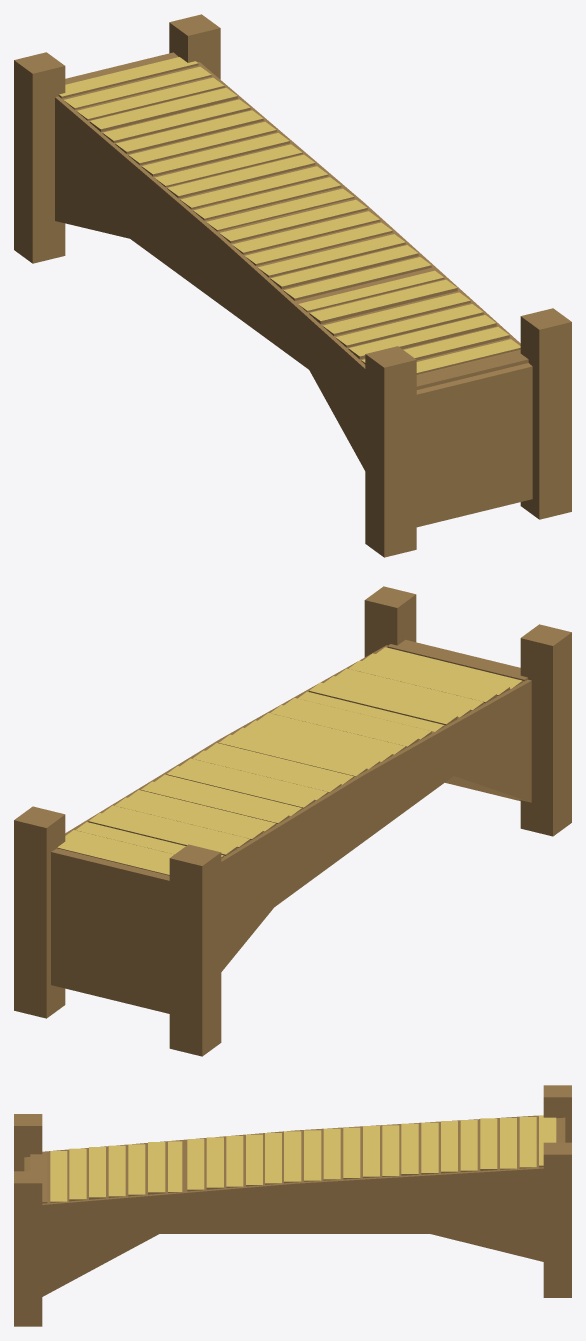
Rendered from Bridge.fbx.
3 renders of one model, top to bottom at view 1: azimuth 30°, elevation 25°; view 2: azimuth 150°, elevation 25°; view 3: azimuth 270°, elevation 25°, orthographic. The views are drawn at different scales.
Visible parts, largest first — view 1: Cube; view 2: Cube; view 3: Cube.
Boxes of the visible parts, box(x1,y1,x2,y2) form: Cube: box(14, 14, 571, 557); Cube: box(14, 586, 571, 1056); Cube: box(14, 1085, 571, 1326).
Bounding box in the file's own units: 261 × 300 × 884.
